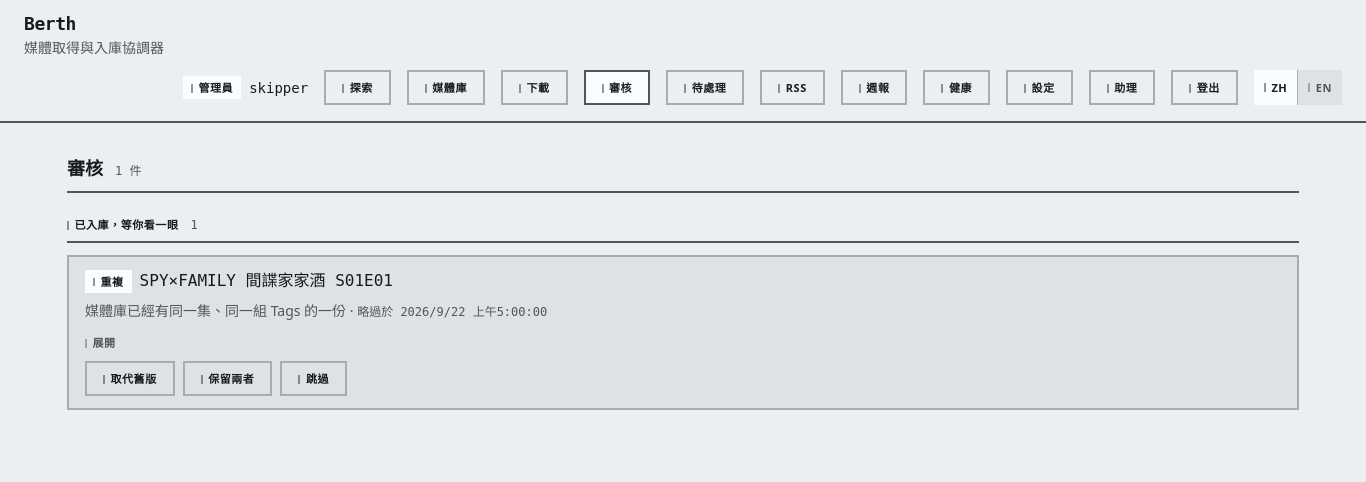
Test: 對不到與重複版本的請求沒成時說出對的原因 › 跳過重複版本（500）
This screenshot has width=1366, height=482.
What coordinates should you click on to do the following:
click the button "跳過"
I would click on:
 (314, 378)
Its box is [280,361,347,396].
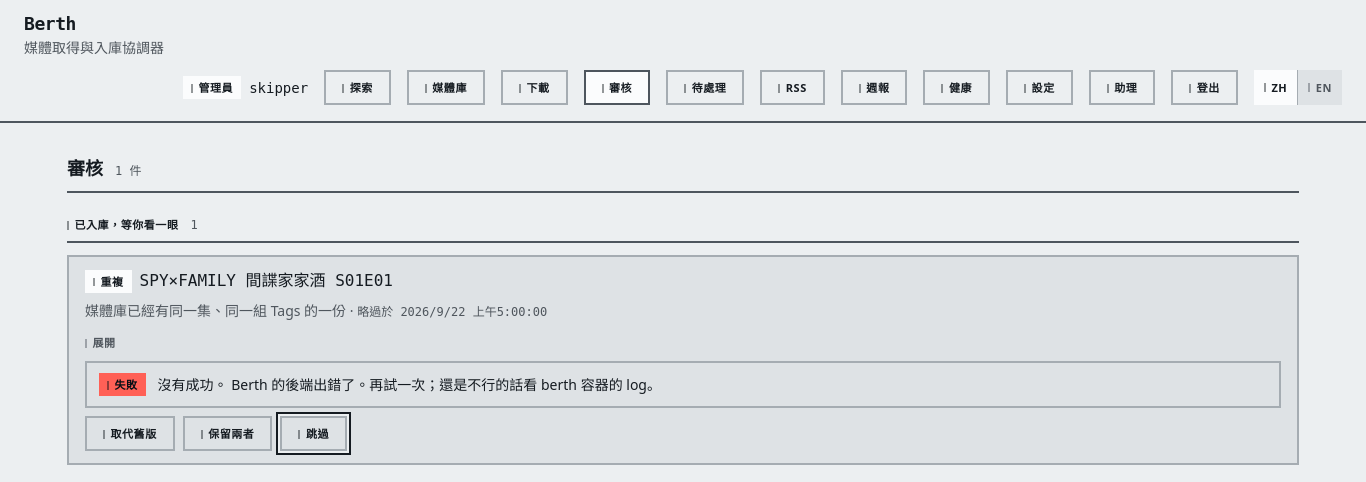
Expected: the text "沒有成功。 Berth 的後端出錯了。再試一次；還是不行的話看 berth 容器的 log。" does not show "自己的 API", [158,374,661,394]
Expected: the text "沒有成功。 Berth 的後端出錯了。再試一次；還是不行的話看 berth 容器的 log。" is shown, [158,374,661,394]
